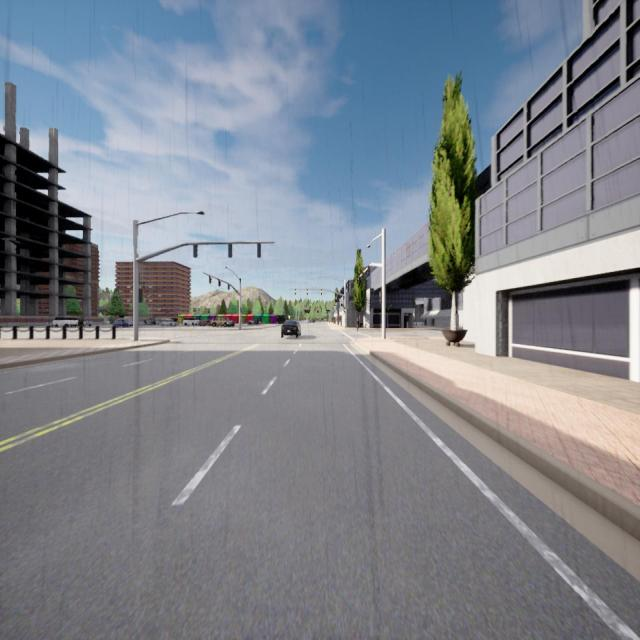Pedestrian: (356, 317, 359, 332)
Vehicle: (280, 319, 302, 338), (52, 316, 79, 327), (210, 315, 227, 327), (114, 317, 133, 327), (160, 318, 178, 327), (183, 318, 199, 327), (145, 318, 156, 326), (248, 318, 258, 326), (200, 319, 210, 327), (227, 319, 234, 327), (308, 320, 311, 323), (312, 320, 315, 323)
traffic_light: (257, 242, 261, 258), (139, 288, 143, 303), (228, 243, 232, 258), (194, 244, 198, 258), (379, 292, 382, 304), (368, 266, 370, 276), (209, 276, 211, 284), (306, 288, 308, 296), (344, 307, 346, 313), (218, 280, 220, 286), (228, 284, 230, 290), (359, 277, 361, 283), (240, 307, 242, 312), (362, 273, 364, 277), (321, 288, 322, 296), (295, 289, 296, 295)
